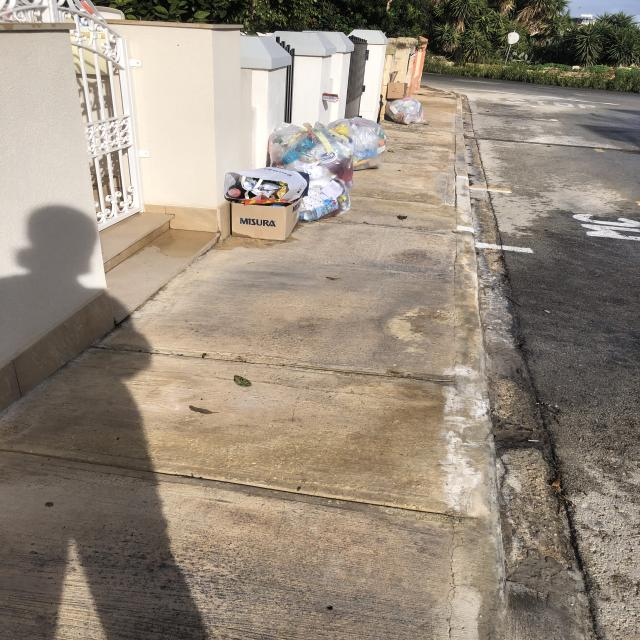Other: (232, 198, 303, 242), (224, 168, 310, 202), (388, 83, 409, 100)
Recycled Waste -Grey or Green Bag-: (269, 122, 357, 223), (328, 118, 387, 172), (386, 98, 427, 126)
